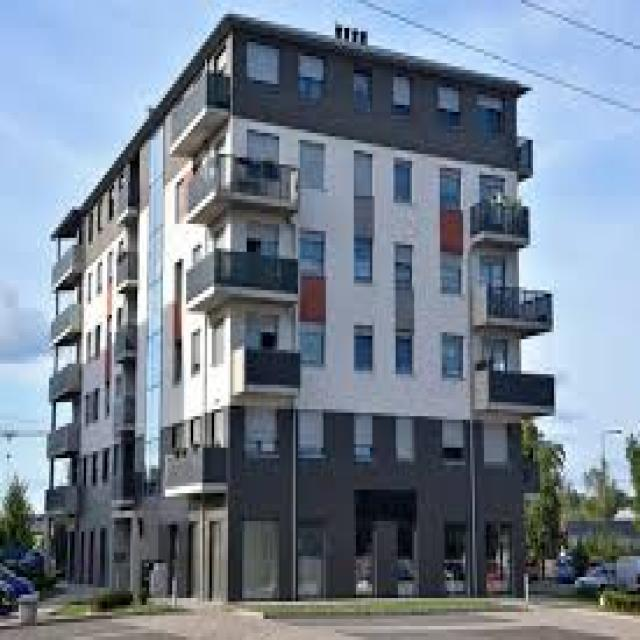window: (247, 46, 286, 101), (344, 234, 375, 301), (298, 143, 330, 203), (296, 328, 338, 371), (352, 328, 386, 378), (298, 52, 330, 105), (442, 325, 468, 388), (351, 150, 377, 207), (349, 70, 377, 122), (295, 234, 326, 280), (437, 87, 468, 133), (480, 95, 508, 136), (393, 77, 417, 119), (391, 164, 412, 207), (396, 343, 419, 381), (396, 248, 416, 290), (445, 259, 463, 301), (438, 168, 456, 203)
